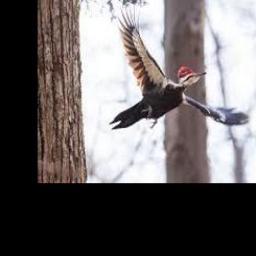Woodpecker: (110, 5, 250, 129)
